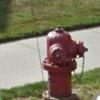Hydrant: (38, 19, 91, 99)
